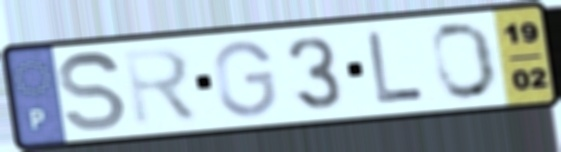3: (285, 34, 347, 111)
G: (212, 38, 280, 120)
L: (365, 28, 429, 107)
O: (428, 19, 502, 103)
R: (120, 44, 203, 130)
S: (56, 49, 130, 135)
